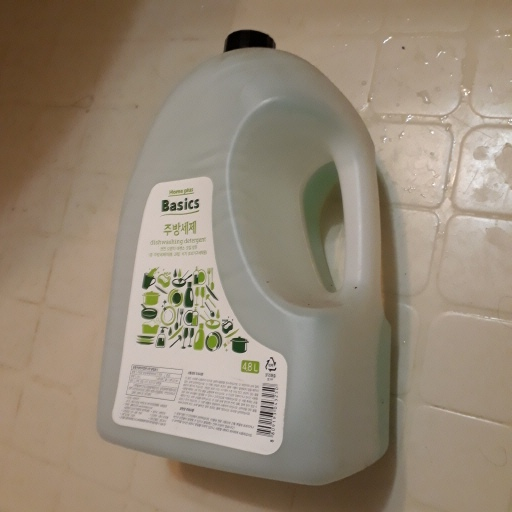Plastic_1: (102, 29, 394, 486)
